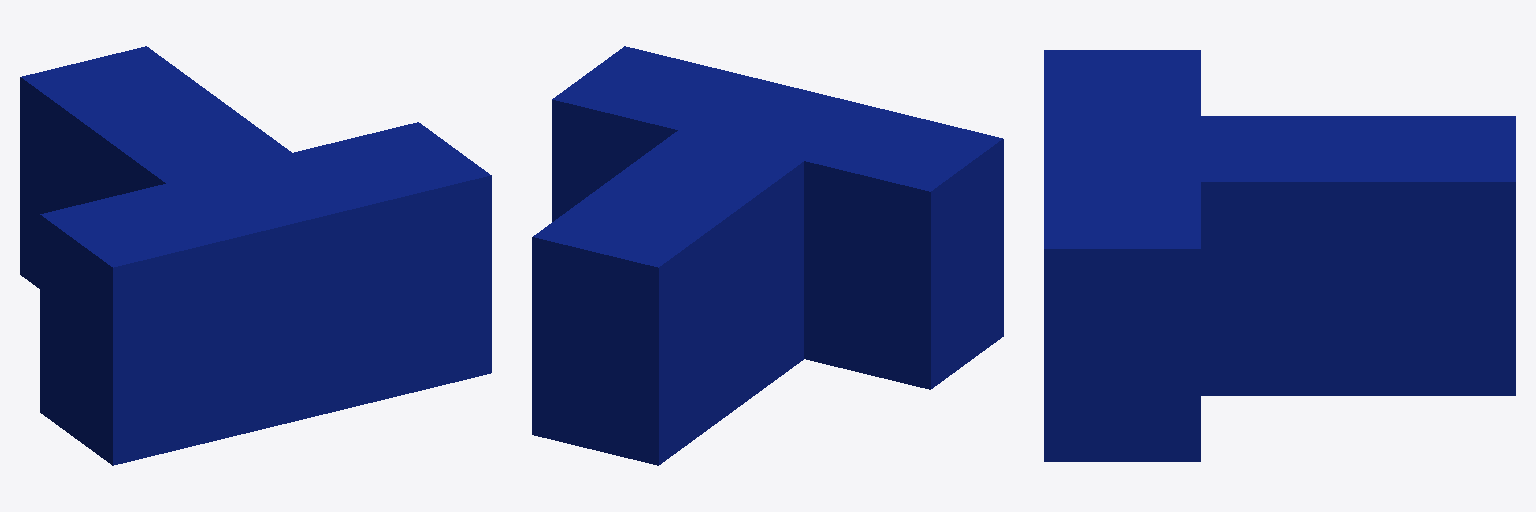
URDF robot description (block):
<robot name="block">
  <link name="block_base_link">

    <inertial>
      <origin rpy="0 0 0" xyz="-0.05 -0.058 0.015"/>
      <mass value="0.05"/>
      <inertia ixx="2.186e-05" ixy="0.0" ixz="0.0" iyy="1.61e-05" iyz="0.0" izz="2.896e-05"/>
    </inertial>
    <collision>
      
      <geometry>
        <mesh filename="10.STL" scale="1 1 1"/>
      </geometry>
    </collision>
    <visual>
 
      <geometry>
        <mesh filename="10.STL" scale="1 1 1"/>
      </geometry>
      <material name="tray_material">
        <color rgba="0.1 0.2 0.6 1"/>
      </material>
    </visual>
  </link>
</robot>

--- Render facts (derived) ---
3 views of the same robot in one strip: view 1: azimuth 30°, elevation 25°; view 2: azimuth 150°, elevation 25°; view 3: azimuth 270°, elevation 25° (orthographic).
Model block with 1 links and 0 joints (none), rooted at block_base_link, posed every joint at zero.
Visible links, largest first — view 1: block_base_link; view 2: block_base_link; view 3: block_base_link.
Boxes of the visible links, x1,y1,x2,y2 form: block_base_link: (20,46,491,465); block_base_link: (532,46,1003,465); block_base_link: (1044,50,1515,461).
Bounding box of the posed robot: 0.06 × 0.06 × 0.03 m (x, y, z).
Meshes: 1 distinct files referenced, 1 mesh visuals loaded (1 binary STL).